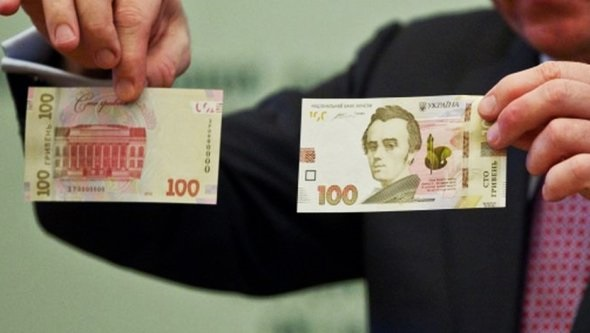bn_100: (301, 99, 507, 210), (29, 88, 220, 202)
